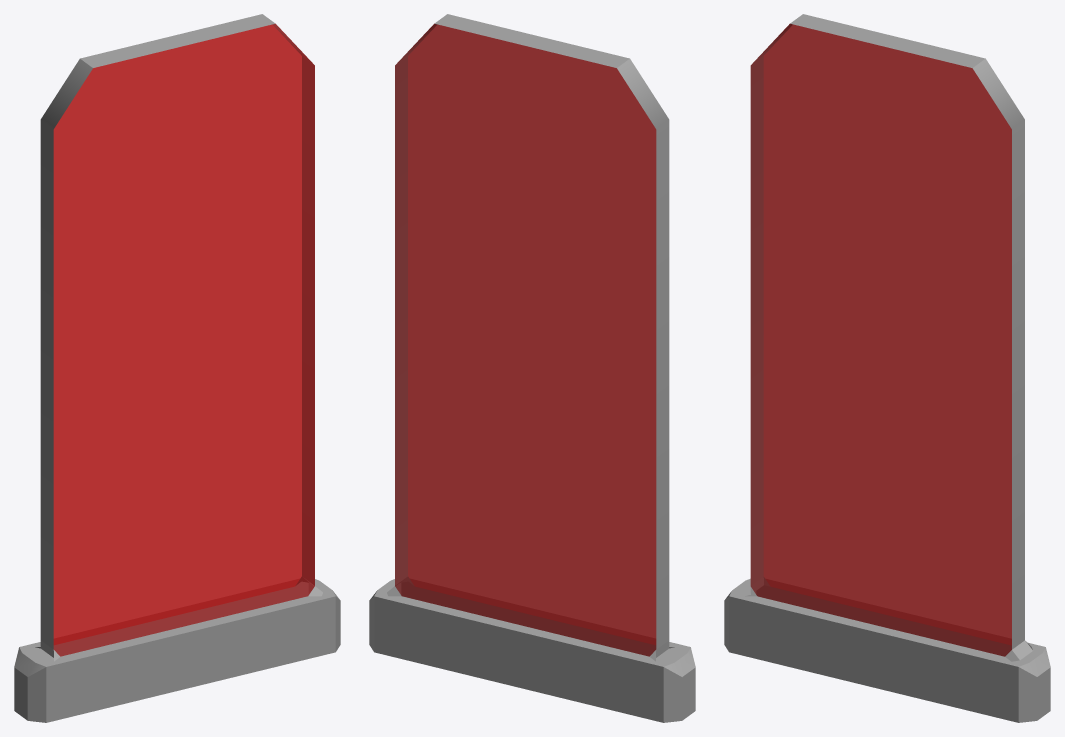
File: Mur_vitre.fbx
The picture shows the model from 3 angles, left to right: view 1: azimuth 30°, elevation 25°; view 2: azimuth 150°, elevation 25°; view 3: azimuth 330°, elevation 25°; orthographic projection.
Parts seen in each view (by area): view 1: Mur_vitre; view 2: Mur_vitre; view 3: Mur_vitre.
Boxes of the visible parts, x1,y1,x2,y2 form: Mur_vitre: [14, 14, 340, 722]; Mur_vitre: [369, 14, 695, 722]; Mur_vitre: [724, 14, 1050, 722].
Bounding box in the file's own units: 105 × 205 × 15.85.
